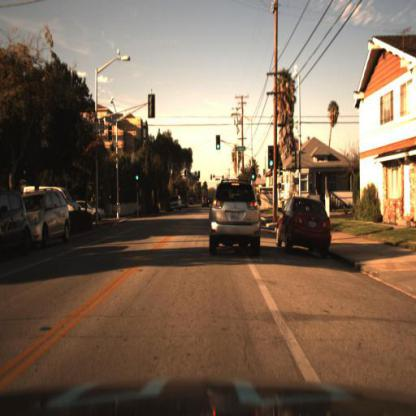car: (202, 178, 264, 261), (269, 192, 337, 267), (30, 187, 77, 257), (16, 182, 75, 205), (72, 199, 105, 222), (168, 193, 184, 214)
trafficLight-Green: (269, 152, 277, 170), (251, 167, 259, 184), (215, 139, 223, 152), (135, 171, 140, 184)
